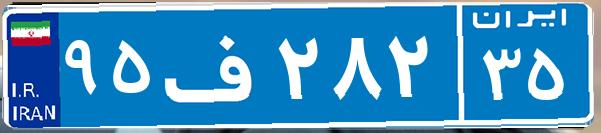2: (385, 28, 445, 110), (273, 28, 330, 110)
3: (475, 38, 525, 113)
5: (110, 28, 158, 105), (525, 38, 570, 115)
8: (330, 28, 385, 110)
9: (57, 26, 110, 107)
ف: (158, 15, 273, 115)
